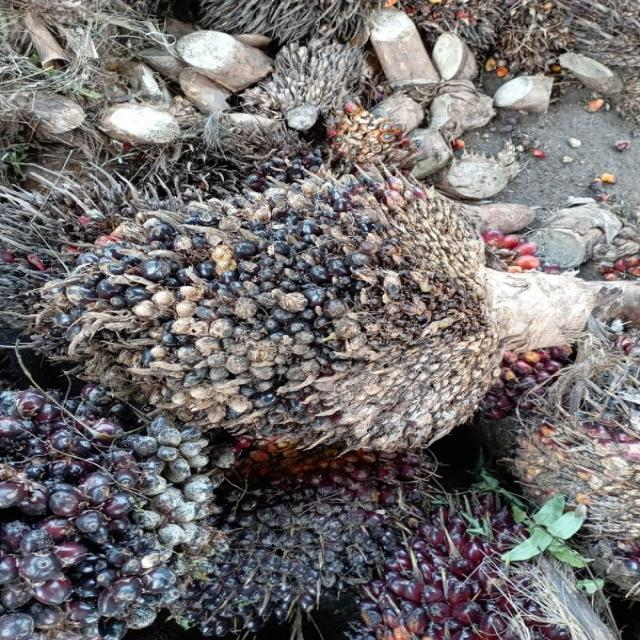fraksi 00: (85, 168, 492, 458), (0, 370, 222, 640), (169, 436, 412, 640)
